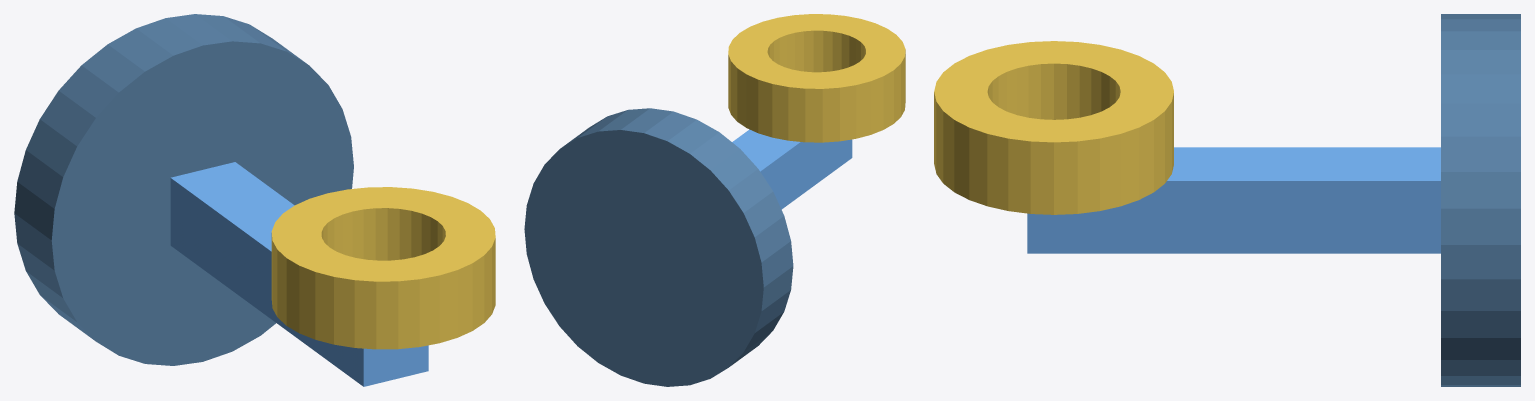
Rendered from accesorio.glb.
3 views of the same model, side by side, from view 1: azimuth 30°, elevation 25°; view 2: azimuth 150°, elevation 25°; view 3: azimuth 270°, elevation 25° (orthographic). The views are drawn at different scales.
Visible parts, largest first — view 1: world; view 2: world; view 3: world.
Boxes of the visible parts, x1,y1,x2,y2 form: world: (14,14,495,386); world: (524,14,905,386); world: (934,14,1520,386).
Size of the model in its own units: 1.4 by 1.4 by 2.2.
